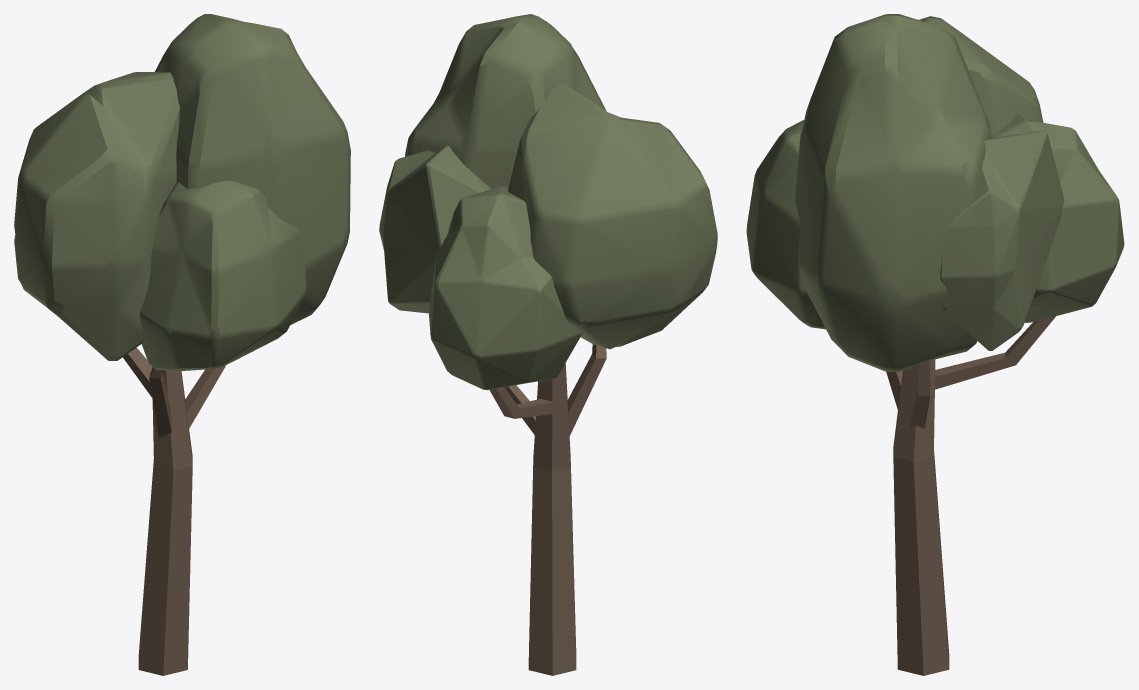
File: kleine boom.fbx
The picture shows the model from 3 angles, left to right: view 1: azimuth 30°, elevation 25°; view 2: azimuth 150°, elevation 25°; view 3: azimuth 270°, elevation 25°; orthographic projection. The views are drawn at different scales.
Parts seen in each view (by area): view 1: polySurface50; view 2: polySurface50; view 3: polySurface50.
Boxes of the visible parts, <box> form: polySurface50: <box>14,14,350,675</box>; polySurface50: <box>379,14,717,675</box>; polySurface50: <box>746,14,1124,675</box>.
Bounding box in the file's own units: 5.27 × 10.67 × 5.43.
